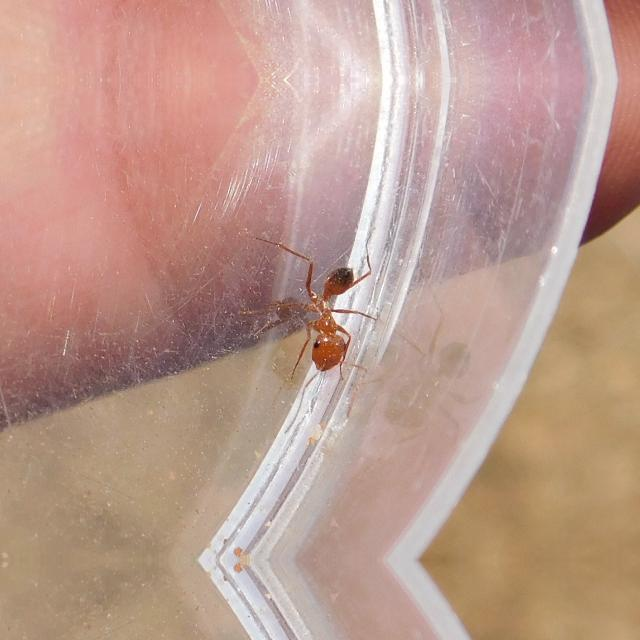Cataglyphis: (268, 248, 380, 382)
